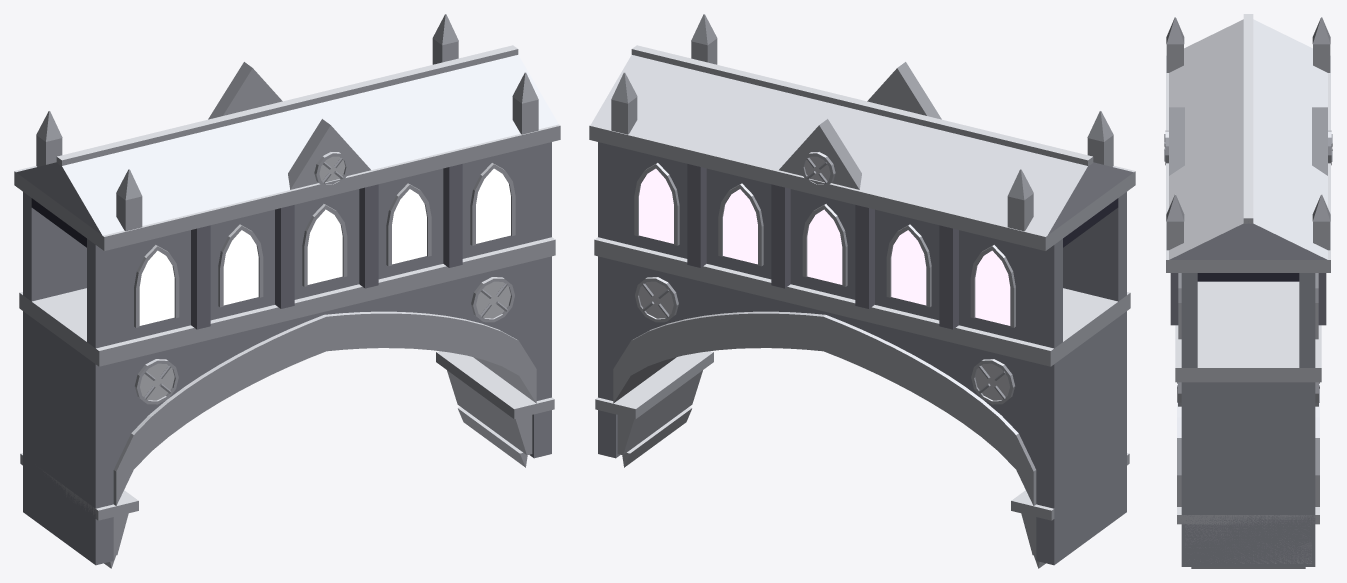
File: PR_Passadico_14.fbx
3 views of the same model, side by side, from view 1: azimuth 30°, elevation 25°; view 2: azimuth 150°, elevation 25°; view 3: azimuth 270°, elevation 25° (orthographic). The views are drawn at different scales.
Parts seen in each view (by area): view 1: PR_Passadico_14; view 2: PR_Passadico_14; view 3: PR_Passadico_14.
Part boxes in pixels (bbox=[...]): PR_Passadico_14: bbox=[14, 14, 560, 568]; PR_Passadico_14: bbox=[589, 14, 1135, 568]; PR_Passadico_14: bbox=[1164, 14, 1332, 568].
Size of the model in its own units: 15.2 by 12.85 by 5.3.
